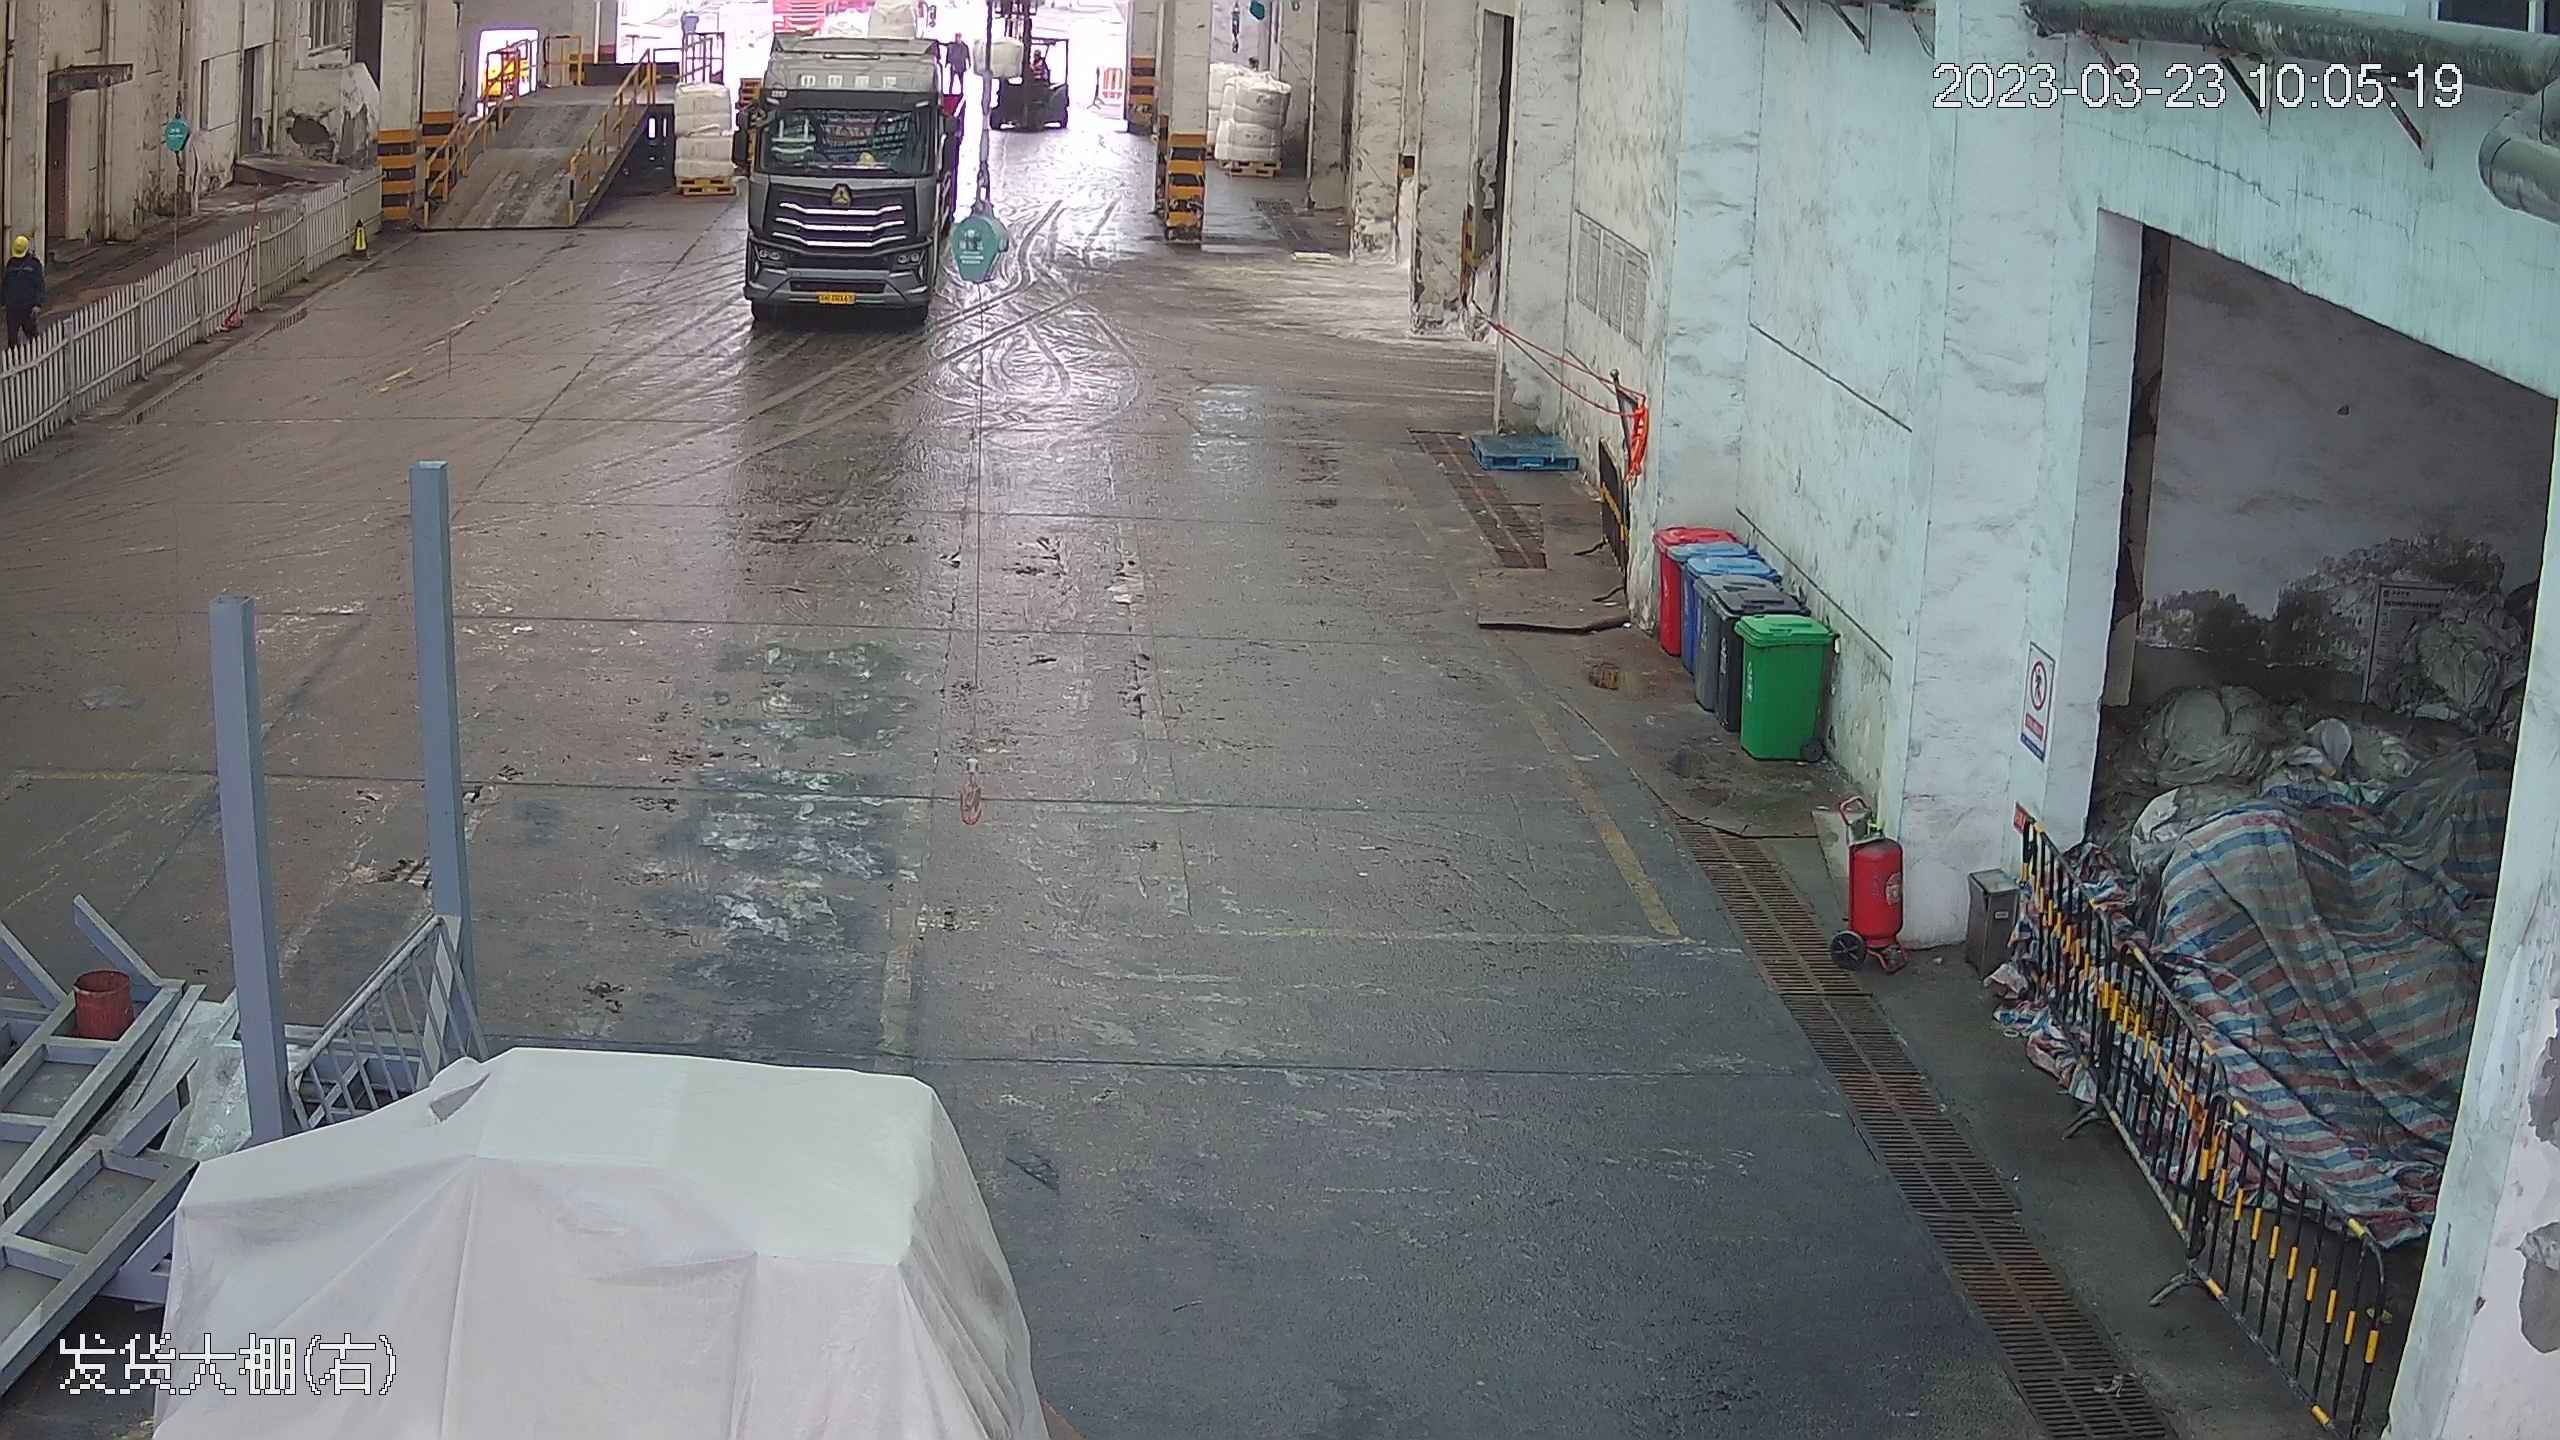head: (1, 231, 42, 282)
helmet: (7, 230, 36, 257)
people: (1, 230, 49, 346)
truck: (720, 13, 988, 333)
